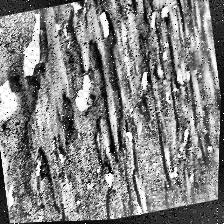pothole: (84, 42, 124, 156), (8, 13, 54, 83), (70, 68, 102, 116), (0, 78, 28, 128), (28, 148, 56, 184), (96, 8, 116, 42), (6, 183, 23, 211), (104, 171, 120, 191)
